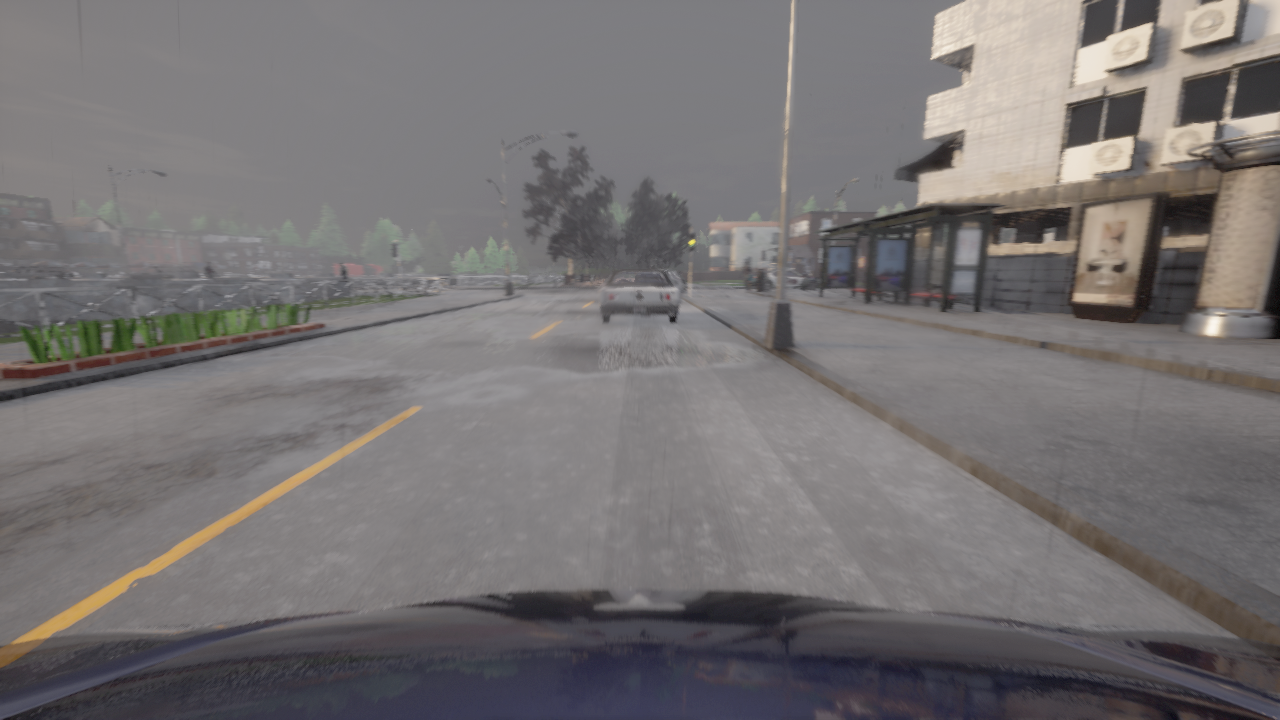cyclist: (0, 588, 1279, 719), (598, 270, 681, 323), (752, 270, 819, 290), (122, 264, 197, 279), (8, 264, 74, 279), (648, 266, 686, 292)
pedestrian: (740, 260, 752, 290), (204, 261, 218, 279), (339, 261, 348, 279), (746, 271, 754, 291)
